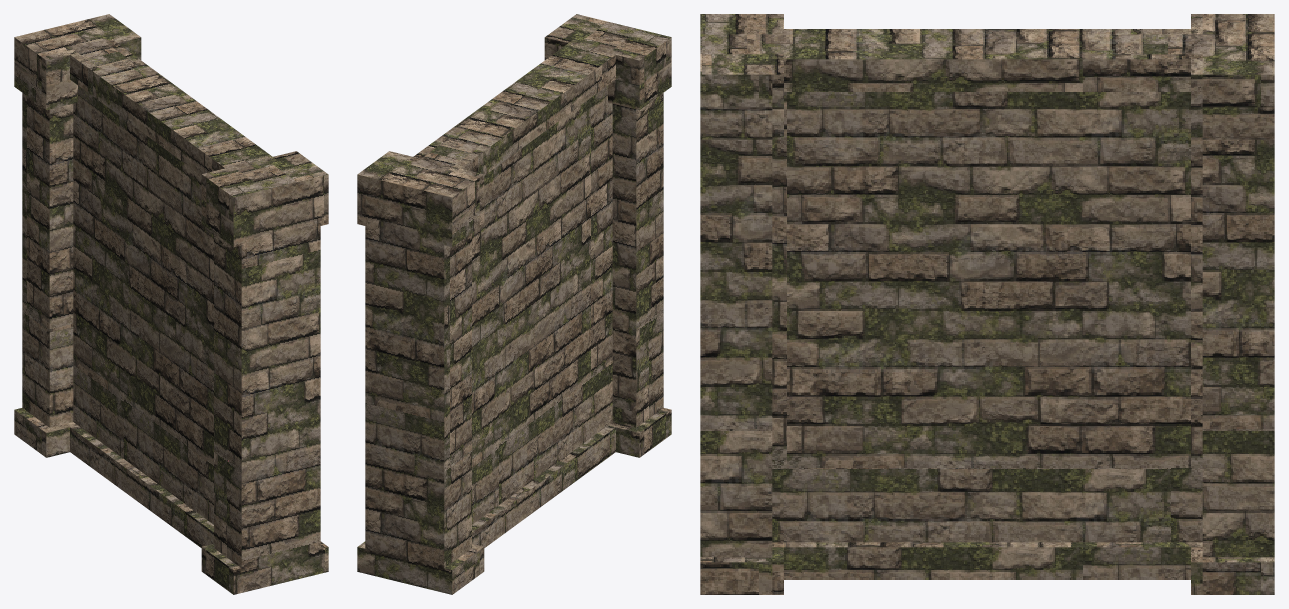
Rendered from 2side_wall.gltf.
The picture shows the model from 3 angles, left to right: view 1: azimuth 30°, elevation 25°; view 2: azimuth 150°, elevation 25°; view 3: azimuth 270°, elevation 25°; orthographic projection. The views are drawn at different scales.
Parts seen in each view (by area): view 1: mesh; view 2: mesh; view 3: mesh.
Part boxes in pixels (left/top/right/bottom): mesh: left=14, top=14, right=328, bottom=594; mesh: left=357, top=14, right=671, bottom=594; mesh: left=700, top=14, right=1274, bottom=594.
Size of the model in its own units: 0.75 by 3 by 3.
1 material, 1 textured.
